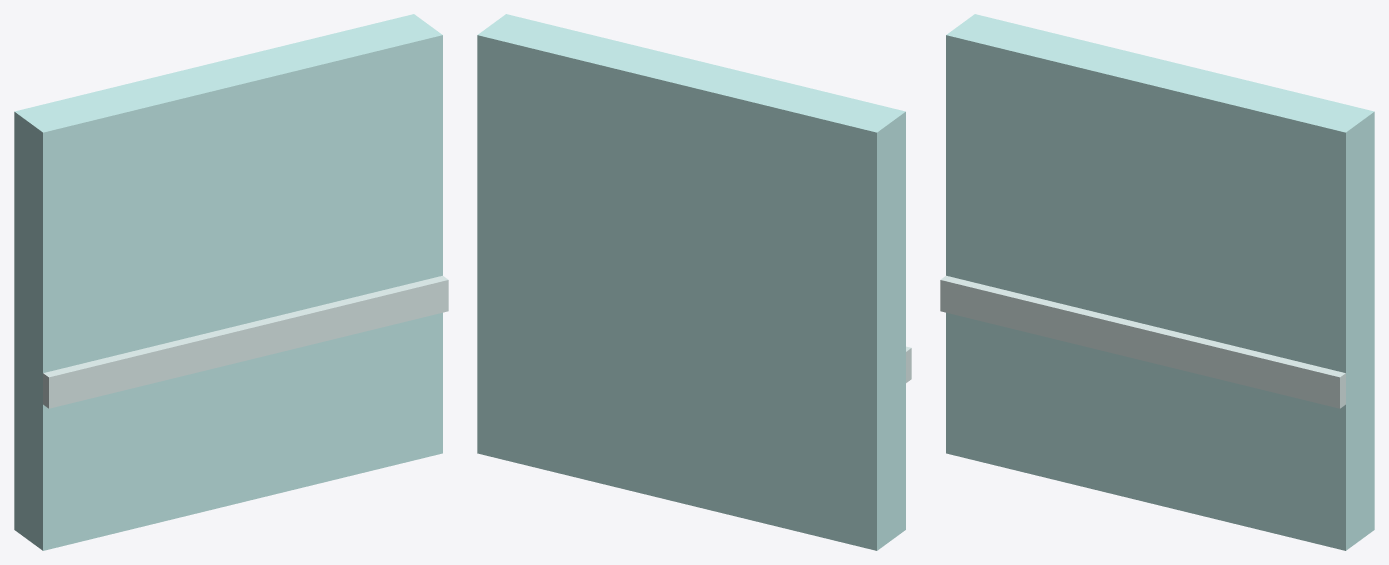
Rendered from BaseWall.obj.
3 renders of one model, left to right at view 1: azimuth 30°, elevation 25°; view 2: azimuth 150°, elevation 25°; view 3: azimuth 330°, elevation 25°, orthographic.
Size of the model in its own units: 4 by 4 by 0.6.
1 material, 1 textured.
